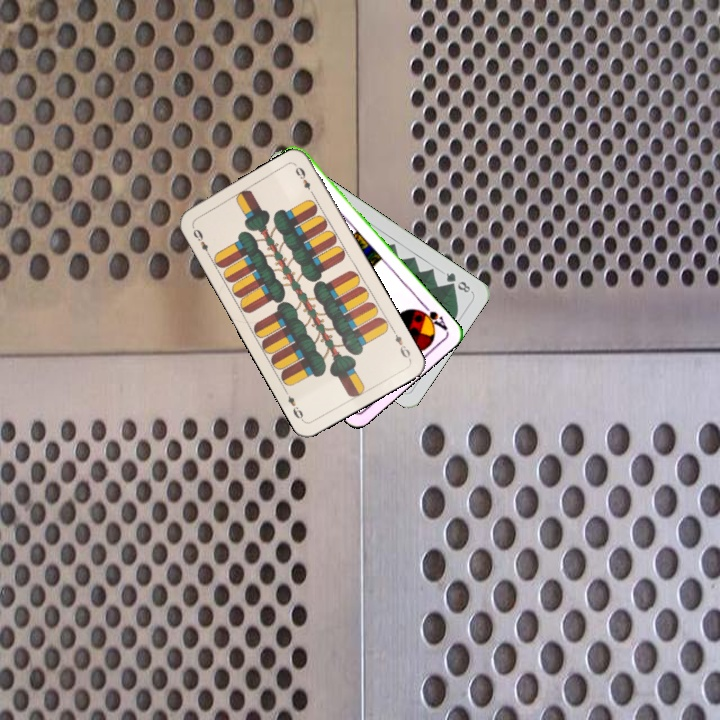E9: (388, 325, 413, 362), (188, 222, 213, 259)
G8: (442, 268, 474, 295)
SA: (413, 300, 450, 333)
